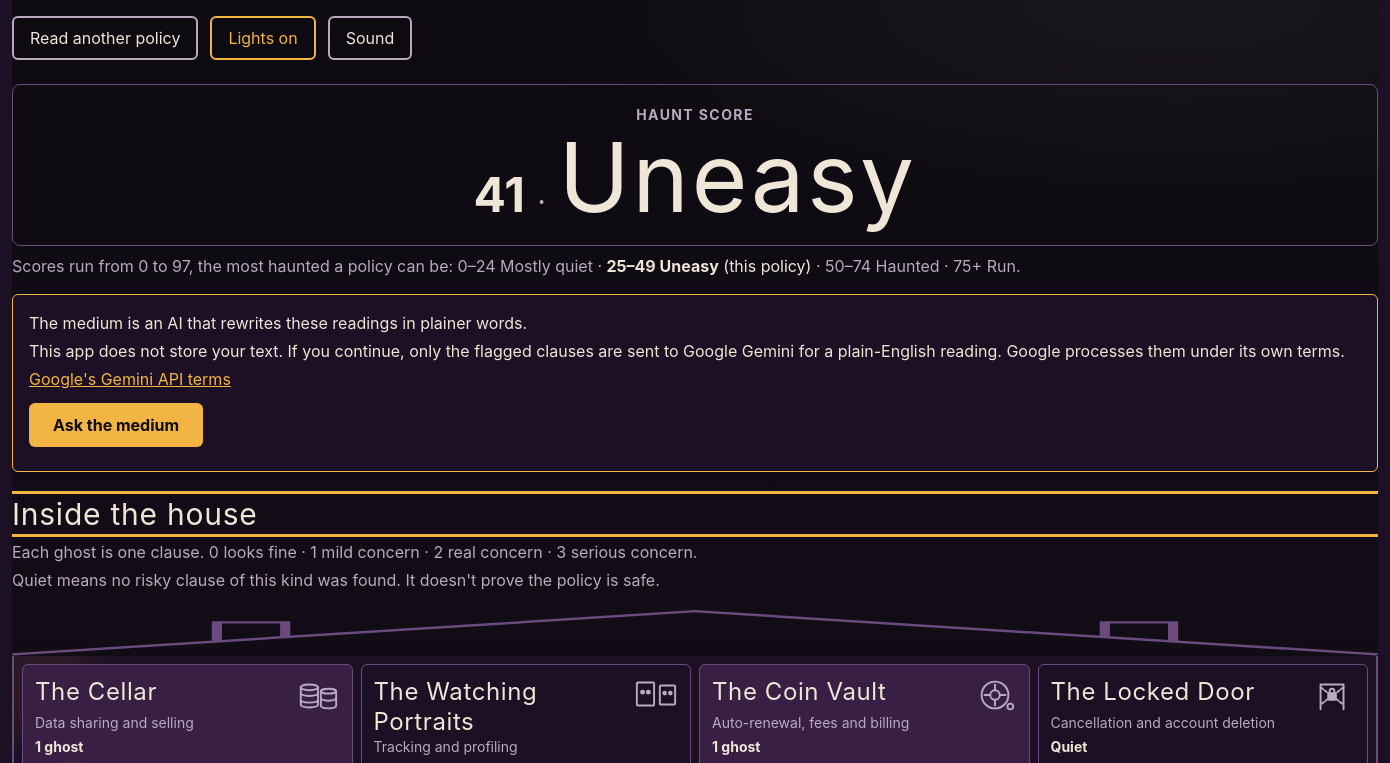
it: OptInPanel (R14) › on error: keeps the rules, shows The medium is silent right now. Showing the rule reading., re-enabled true (R14.6)
Step 1. Click the button "Ask the medium" → (116, 425), box [29,403,203,447]
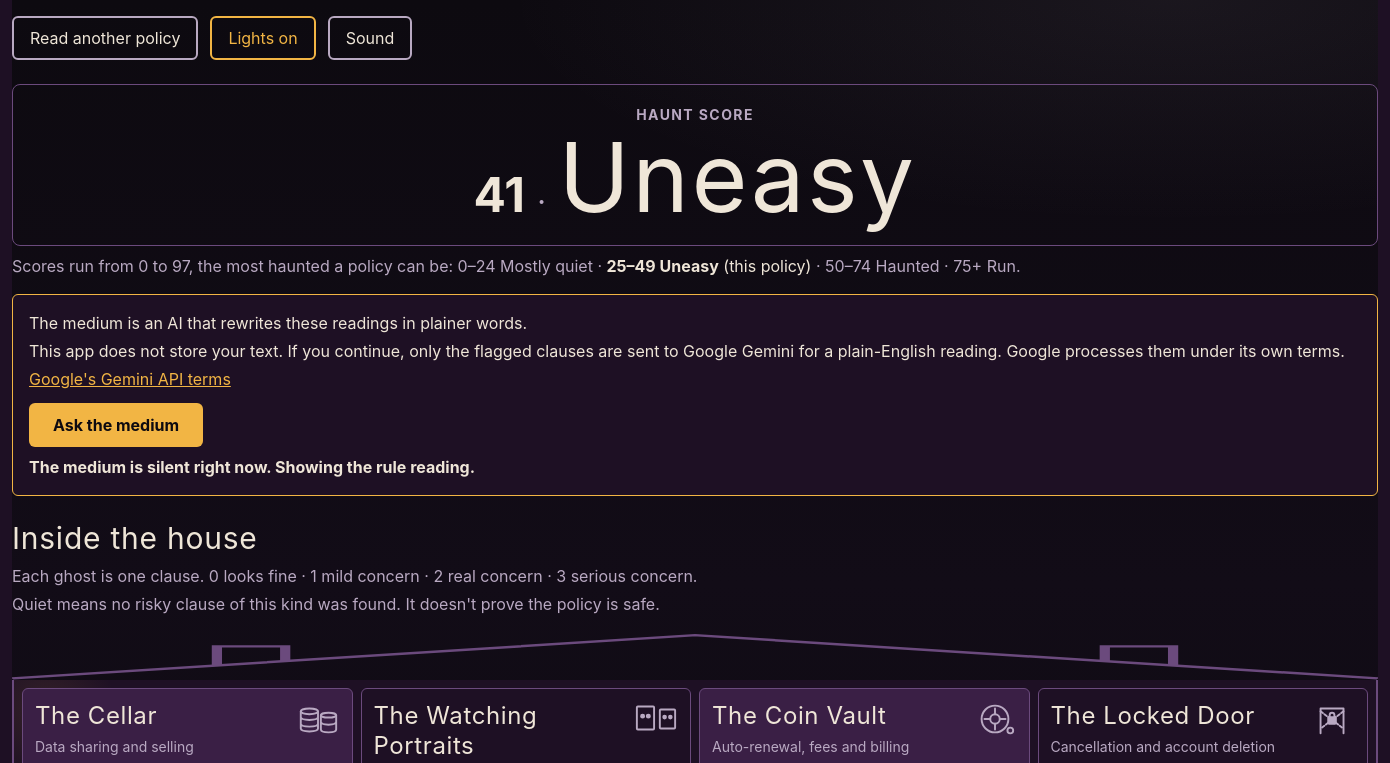
Check: the text "The medium is silent right now. Showing the rule reading." is shown, box [29,457,475,477]
